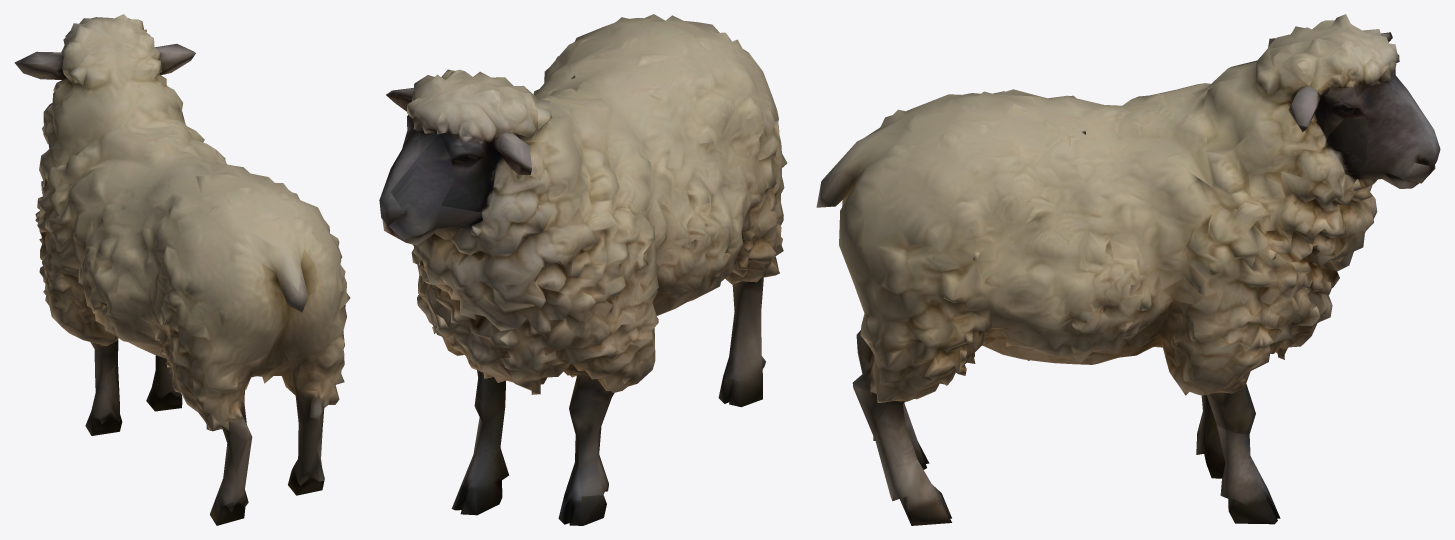
File: pecora_lod.gltf
3 views of the same model, side by side, from view 1: azimuth 30°, elevation 25°; view 2: azimuth 150°, elevation 25°; view 3: azimuth 270°, elevation 25° (orthographic). The views are drawn at different scales.
Visible parts, largest first — view 1: animal; view 2: animal; view 3: animal.
Boxes of the visible parts, <box> form: animal: <box>14,14,350,525</box>; animal: <box>379,14,787,525</box>; animal: <box>816,14,1440,525</box>.
Bounding box in the file's own units: 0.4568 × 0.8011 × 0.9529.
1 material, 1 textured.
